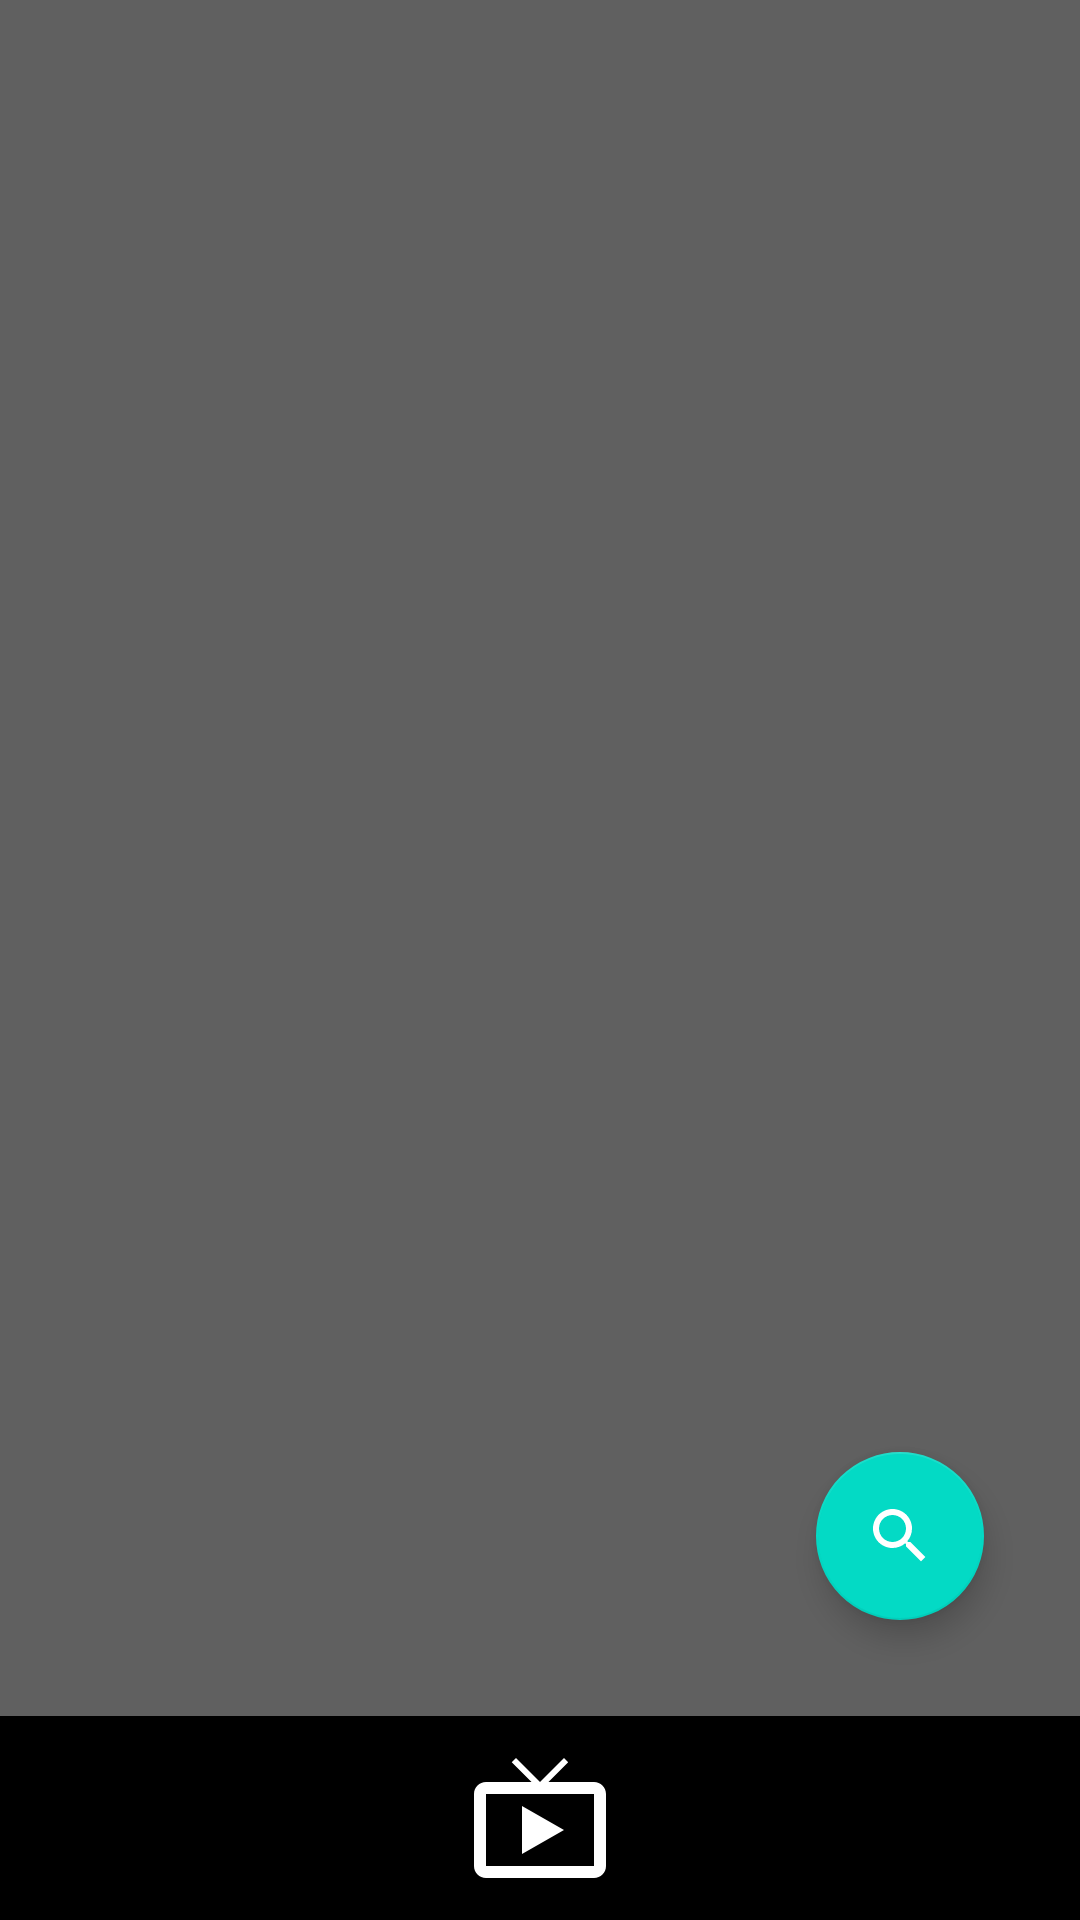

Named icons in this screenshot (1080*1920) and their bounding boxes, (x1,y1,x2,y2):
live tv: (474,1758,606,1878)
search: (816,1452,984,1620)
